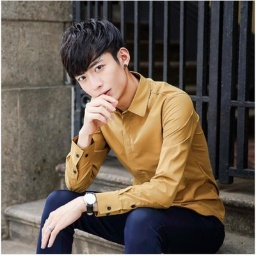face: (59, 17, 130, 104)
